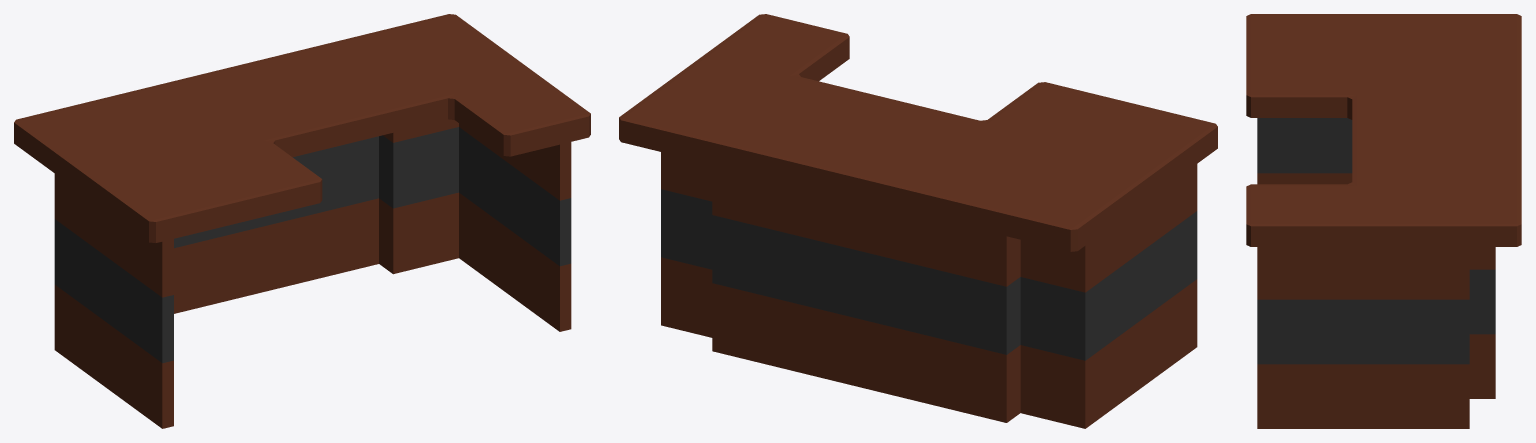
Rendered from bosstable.fbx.
3 views of the same model, side by side, from view 1: azimuth 30°, elevation 25°; view 2: azimuth 150°, elevation 25°; view 3: azimuth 270°, elevation 25° (orthographic). The views are drawn at different scales.
Visible parts, largest first — view 1: Cube.016; view 2: Cube.016; view 3: Cube.016.
Boxes of the visible parts, left/top/right/bottom form: Cube.016: left=14, top=14, right=590, bottom=428; Cube.016: left=619, top=14, right=1217, bottom=428; Cube.016: left=1246, top=14, right=1521, bottom=428.
Bounding box in the file's own units: 209 × 96.7 × 115.
